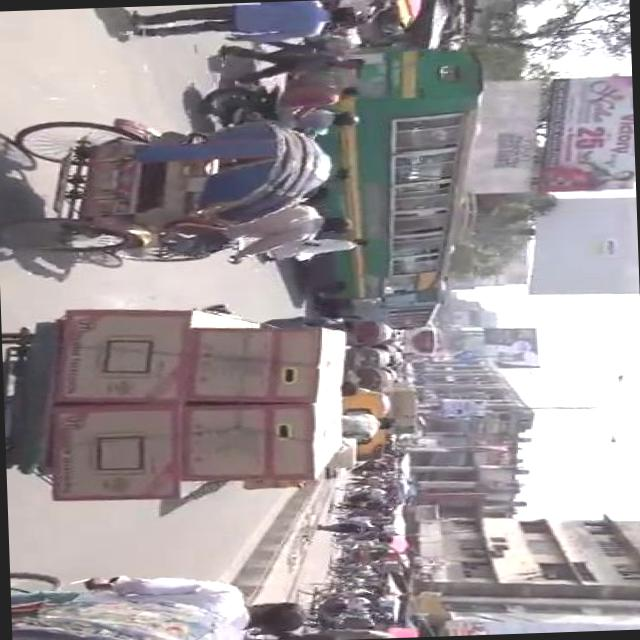bus: (262, 40, 504, 304), (320, 275, 456, 333)
motorcycle: (0, 106, 359, 271), (13, 558, 304, 640), (198, 79, 368, 145), (296, 576, 384, 620), (331, 478, 402, 514), (338, 314, 396, 348), (336, 542, 394, 572), (342, 366, 396, 390), (342, 344, 395, 368)
truck: (338, 390, 396, 462)
